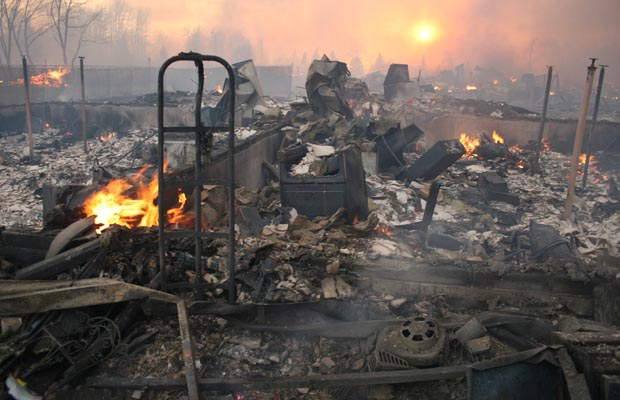Fire: (82, 178, 157, 229), (31, 70, 76, 86), (462, 134, 478, 155)
